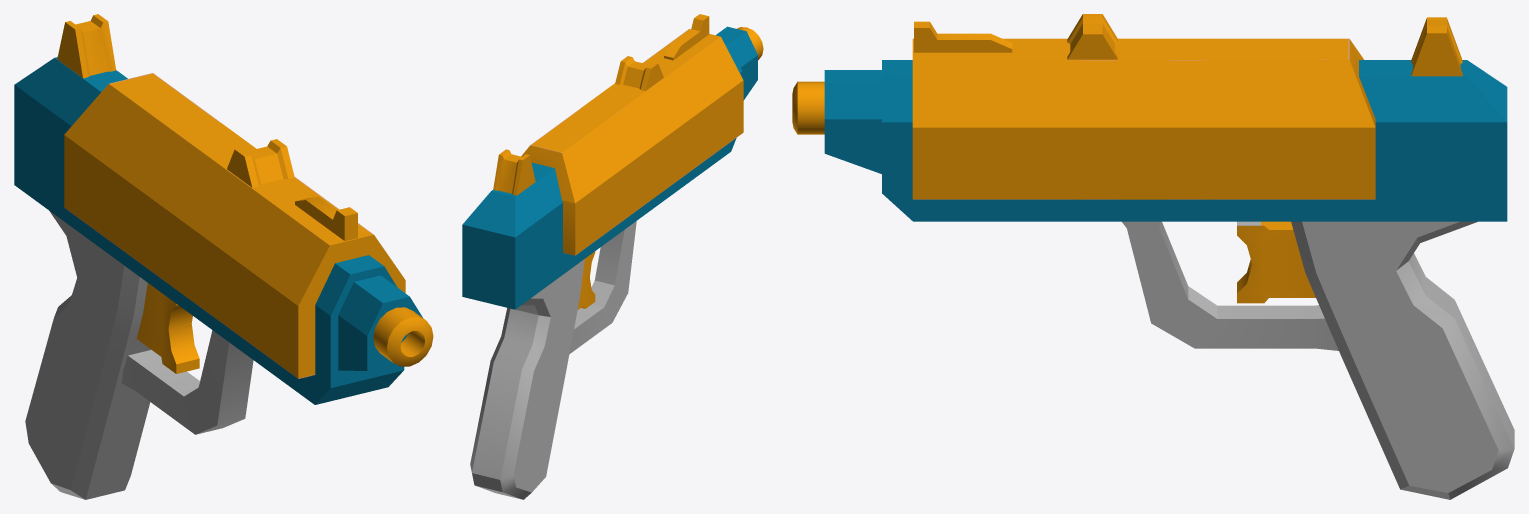
Rendered from NerfGun.fbx.
The picture shows the model from 3 angles, left to right: view 1: azimuth 30°, elevation 25°; view 2: azimuth 150°, elevation 25°; view 3: azimuth 270°, elevation 25°; orthographic projection. The views are drawn at different scales.
Visible parts, largest first — view 1: Nerf; view 2: Nerf; view 3: Nerf.
Boxes of the visible parts, left/top/right/bottom form: Nerf: left=14, top=14, right=433, bottom=499; Nerf: left=462, top=14, right=763, bottom=499; Nerf: left=792, top=14, right=1514, bottom=499.
Bounding box in the file's own units: 0.0737 × 0.3103 × 0.4356.
